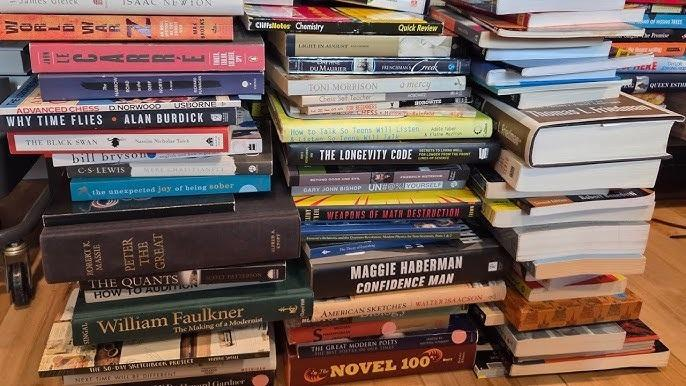book: (68, 291, 299, 349), (39, 238, 303, 270), (22, 36, 263, 69), (4, 102, 254, 132), (8, 127, 255, 153), (56, 152, 267, 180)
